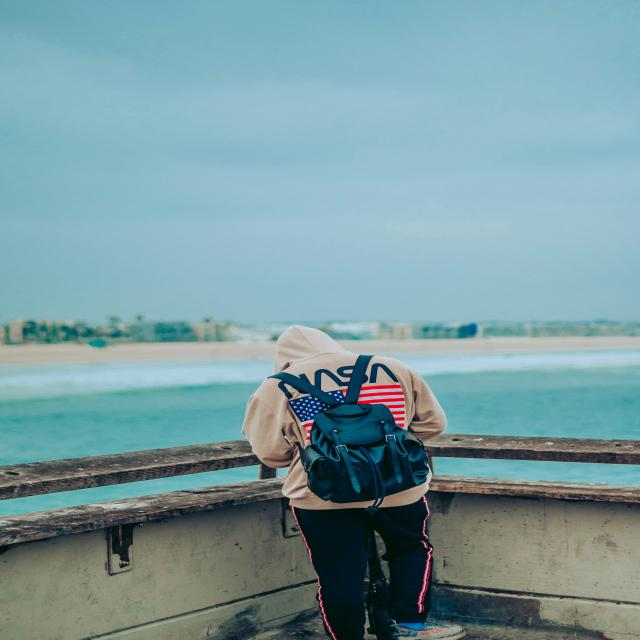backpack: (269, 354, 433, 504)
